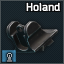SA-58 Holland type rear sight: (0, 0, 64, 64)
